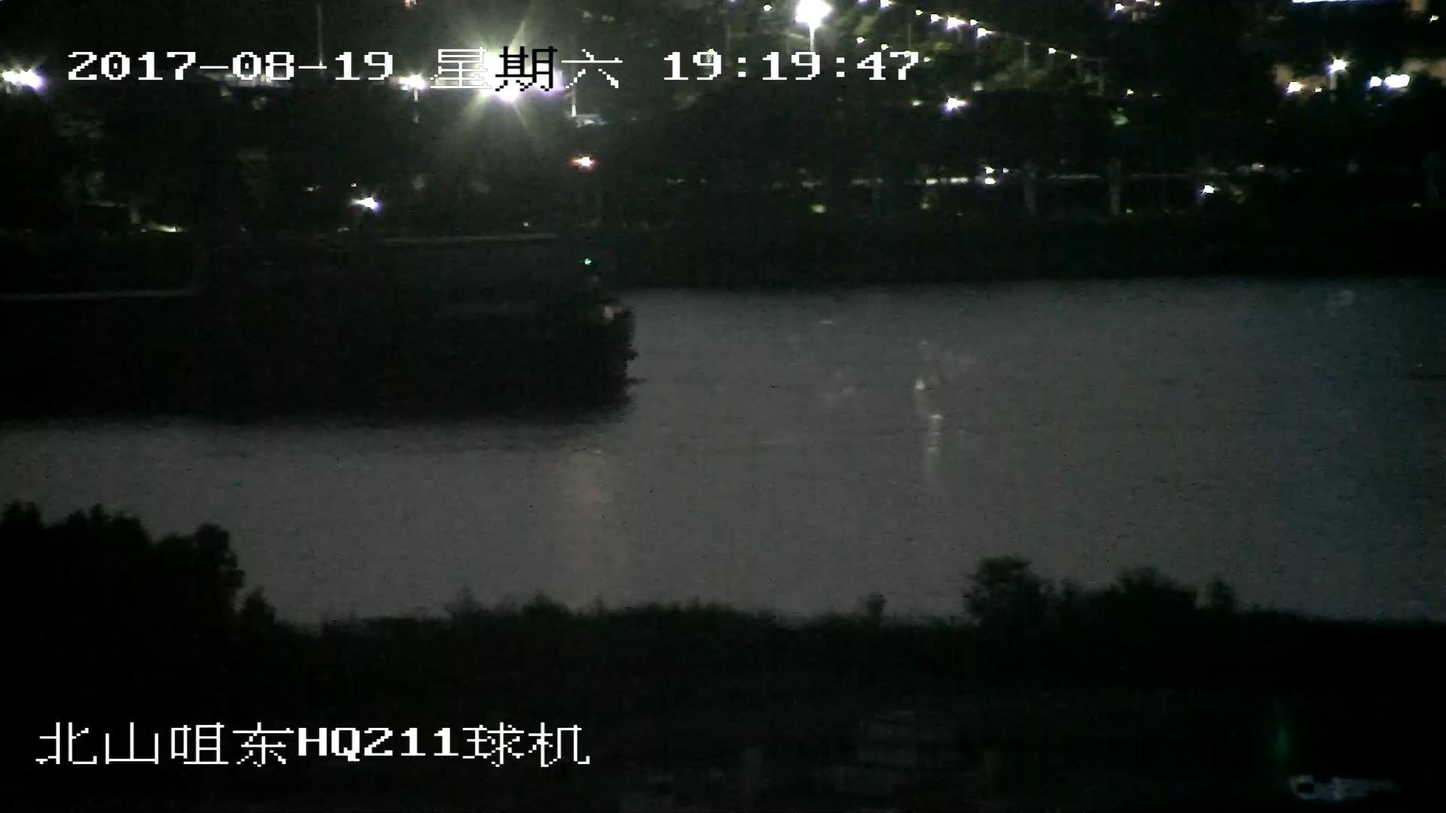container ship: (0, 237, 627, 414)
